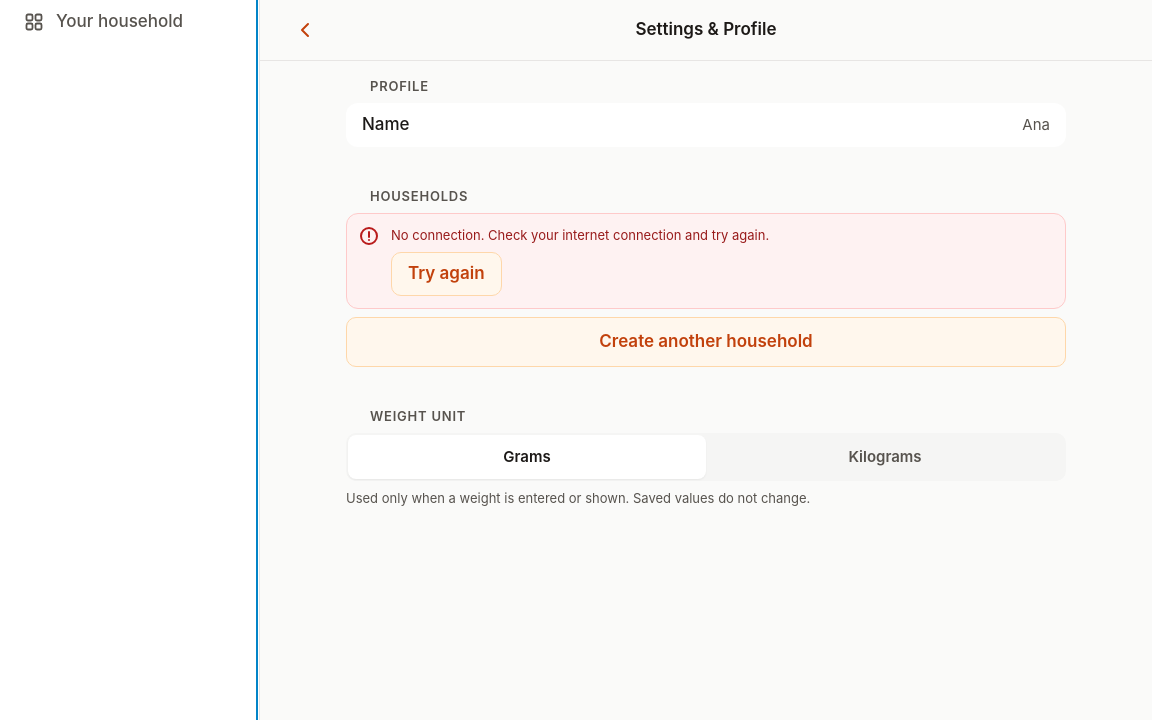
Test: HS-4: retrying a failed read › re-reads the held-set pair and keeps one active marker
The width and height of the screenshot is (1152, 720).
Expected: the heading "Settings & Profile" is shown, left=636, top=19, right=776, bottom=39
Expected: the message shows "No connection. Check your internet connection and try again.", left=391, top=227, right=769, bottom=243
Click the button "Try again" at {"x": 446, "y": 274}, box left=391, top=252, right=502, bottom=296
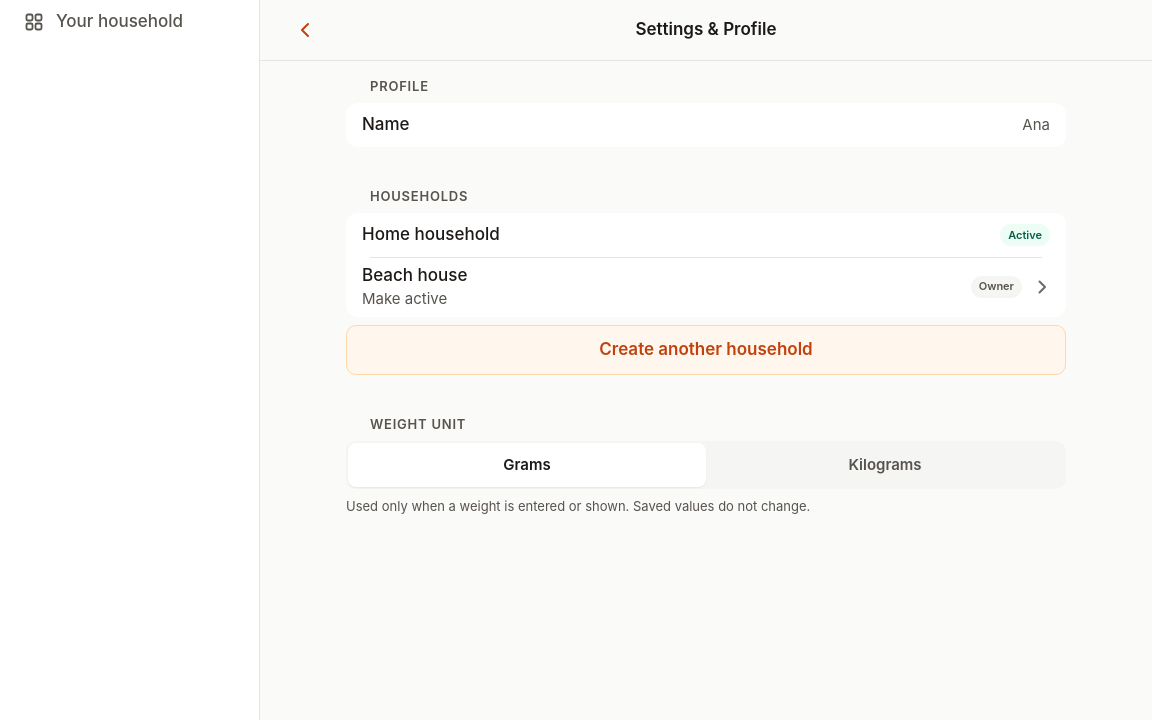
Expected: the text "Beach house" is shown, left=362, top=265, right=467, bottom=285
Expected: the message "No connection. Check your internet connection and try again. Try again" is gone
Expected: the text "Home household" is shown, left=362, top=224, right=500, bottom=244
